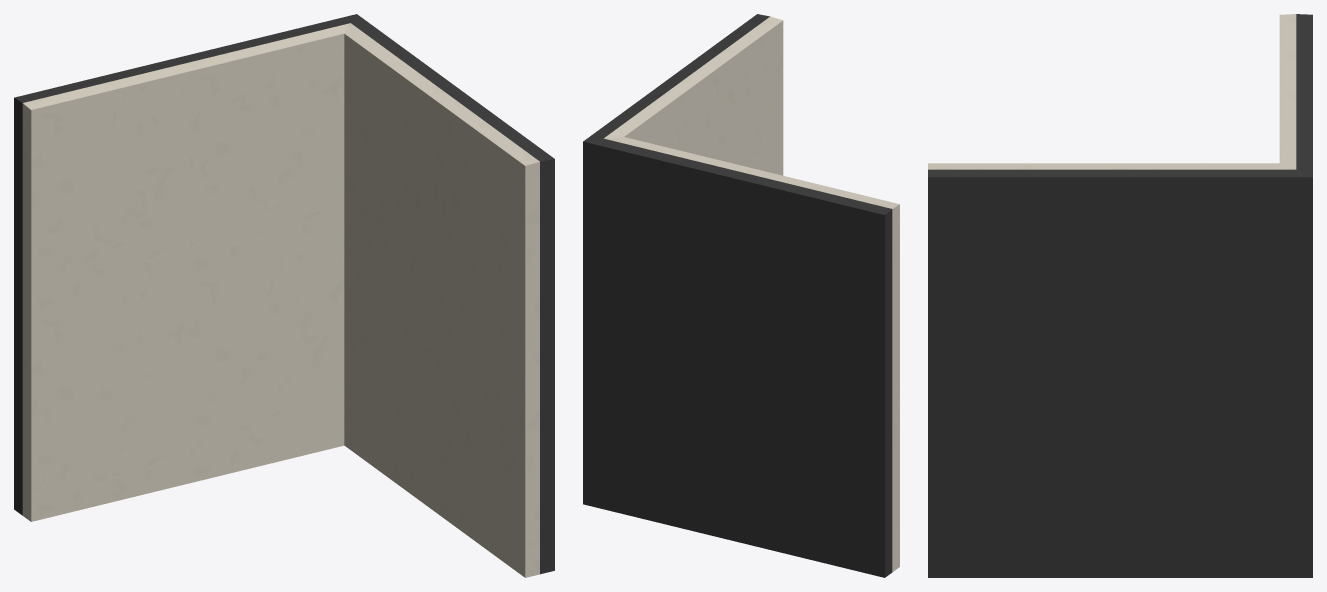
File: SM_Bld_Base_Wall_Corner_01.obj
3 views of the same model, side by side, from view 1: azimuth 30°, elevation 25°; view 2: azimuth 150°, elevation 25°; view 3: azimuth 270°, elevation 25° (orthographic). The views are drawn at different scales.
Parts seen in each view (by area): view 1: SM_Bld_Base_Wall_Corner_01_1, SM_Bld_Base_Wall_Corner_01_0; view 2: SM_Bld_Base_Wall_Corner_01_0, SM_Bld_Base_Wall_Corner_01_1; view 3: SM_Bld_Base_Wall_Corner_01_0, SM_Bld_Base_Wall_Corner_01_1.
Part boxes in pixels (box(x1,y1,x2,y2)): SM_Bld_Base_Wall_Corner_01_1: box(22, 23, 539, 577); SM_Bld_Base_Wall_Corner_01_0: box(14, 14, 554, 574); SM_Bld_Base_Wall_Corner_01_0: box(583, 14, 892, 577); SM_Bld_Base_Wall_Corner_01_1: box(604, 16, 899, 572); SM_Bld_Base_Wall_Corner_01_0: box(928, 14, 1312, 577); SM_Bld_Base_Wall_Corner_01_1: box(928, 14, 1296, 169).
Bounding box in the file's own units: 2.61 × 3.01 × 2.61.
2 materials, 1 textured.
